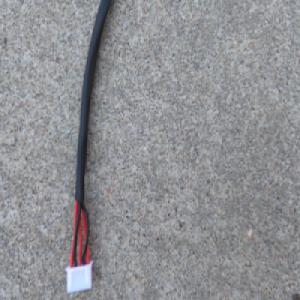Wire: (64, 0, 116, 296)
